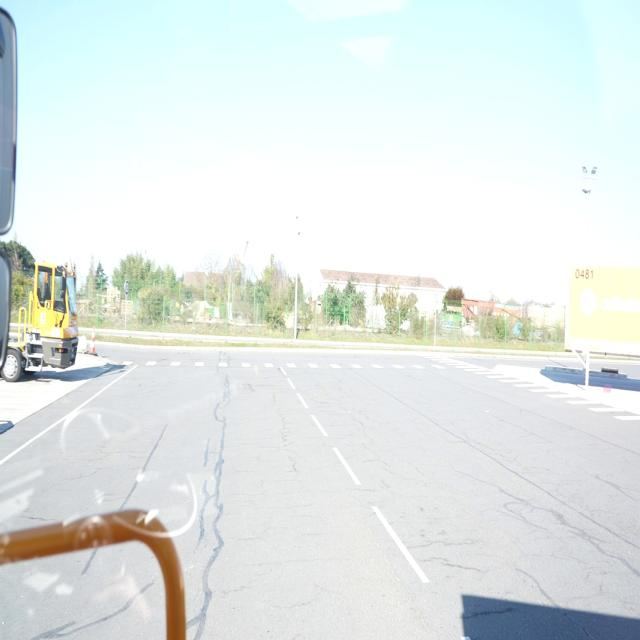Code: (572, 265, 596, 284)
